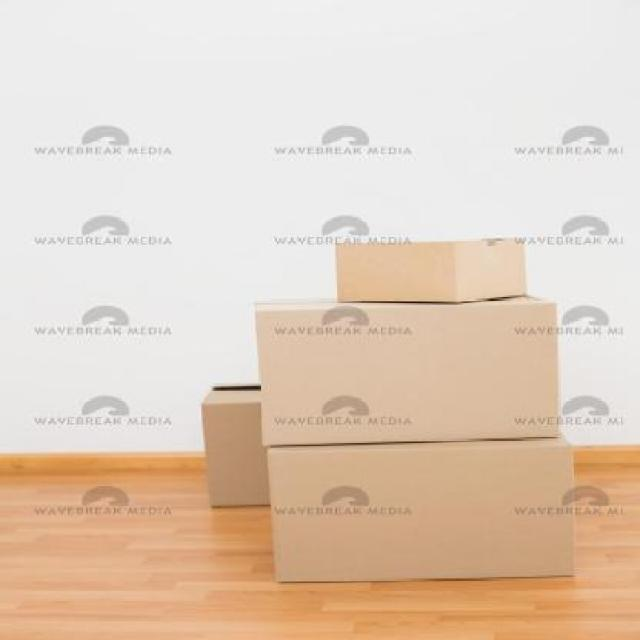box: (267, 431, 582, 585), (255, 296, 557, 441), (334, 237, 530, 307), (201, 382, 271, 510)
